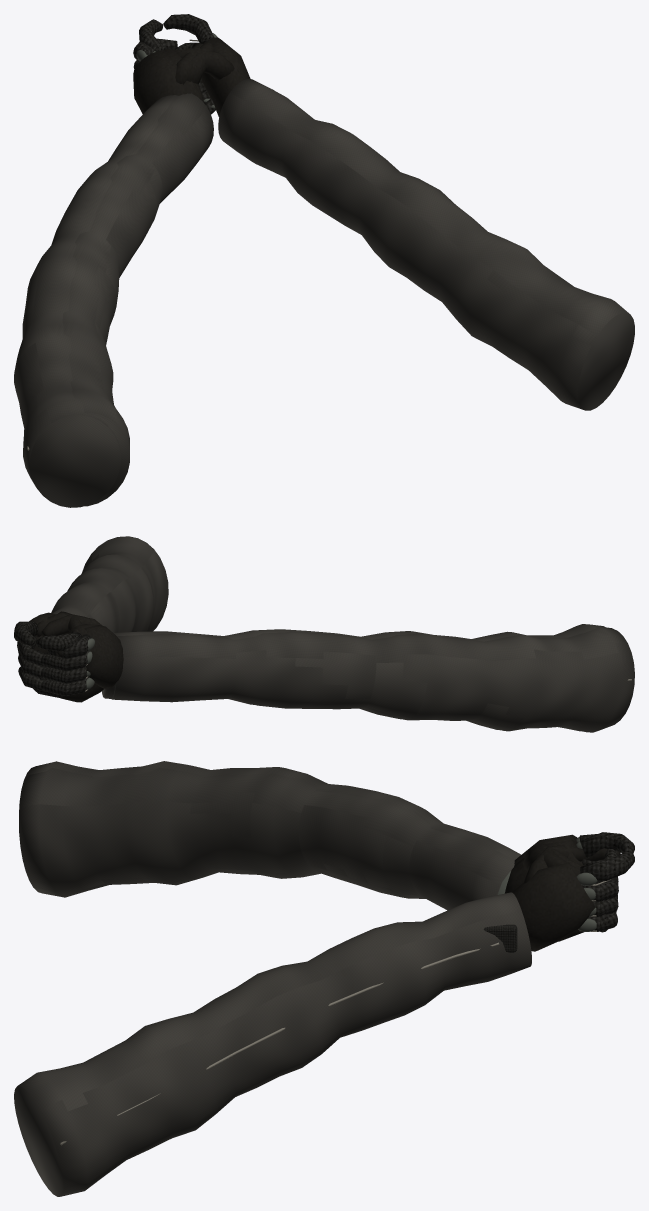
File: hands.glb
3 views of the same model, one above another, from view 1: azimuth 30°, elevation 25°; view 2: azimuth 150°, elevation 25°; view 3: azimuth 270°, elevation 25° (orthographic). The views are drawn at different scales.
Parts seen in each view (by area): view 1: rightHand_Stone grey field ripstop, leftCup_Stone grey field ripstop, leftVertical_Stone grey field ripstop, leftCup_Worn charcoal leather, rightHand_Worn charcoal leather, rightHand_Charcoal glove textile, leftVertical_Worn charcoal leather, leftHand_Stone grey field ripstop; view 2: leftCup_Stone grey field ripstop, rightHand_Stone grey field ripstop, leftCup_Worn charcoal leather, leftVertical_Stone grey field ripstop, leftCup_Charcoal glove textile, rightHand_Charcoal glove textile, leftVertical_Charcoal glove textile, rightHand_Worn charcoal leather, leftVertical_Worn charcoal leather, leftHand_Worn charcoal leather; view 3: rightHand_Stone grey field ripstop, leftVertical_Stone grey field ripstop, rightHand_Worn charcoal leather, leftCup_Stone grey field ripstop, rightHand_Charcoal glove textile, leftVertical_Worn charcoal leather, leftVertical_Charcoal glove textile, rightHand_Waxed seam.
Part boxes in pixels (x1,y1,x2,y2): rightHand_Stone grey field ripstop: (218, 79, 634, 410); leftCup_Stone grey field ripstop: (14, 95, 178, 507); leftVertical_Stone grey field ripstop: (62, 93, 213, 495); leftCup_Worn charcoal leather: (133, 43, 203, 114); rightHand_Worn charcoal leather: (175, 37, 250, 117); rightHand_Charcoal glove textile: (163, 14, 272, 89); leftVertical_Worn charcoal leather: (163, 41, 214, 101); leftHand_Stone grey field ripstop: (85, 413, 128, 506); leftCup_Stone grey field ripstop: (111, 626, 634, 732); rightHand_Stone grey field ripstop: (51, 536, 168, 632); leftCup_Worn charcoal leather: (41, 614, 123, 689); leftVertical_Stone grey field ripstop: (101, 624, 605, 697); leftCup_Charcoal glove textile: (44, 634, 91, 696); rightHand_Charcoal glove textile: (14, 621, 50, 690); leftVertical_Charcoal glove textile: (36, 632, 81, 693); rightHand_Worn charcoal leather: (17, 611, 81, 654); leftVertical_Worn charcoal leather: (36, 612, 97, 685); leftHand_Worn charcoal leather: (56, 651, 103, 702); rightHand_Stone grey field ripstop: (14, 892, 531, 1196); leftVertical_Stone grey field ripstop: (19, 767, 514, 910); rightHand_Worn charcoal leather: (512, 845, 595, 951); leftCup_Stone grey field ripstop: (19, 761, 520, 860); rightHand_Charcoal glove textile: (483, 850, 634, 952); leftVertical_Worn charcoal leather: (505, 839, 583, 893); leftVertical_Charcoal glove textile: (580, 832, 634, 912); rightHand_Waxed seam: (60, 879, 611, 1145).
Bounding box in the file's own units: 0.8516 × 0.3206 × 0.6959.
Materials: 5 (3 with a texture image).
